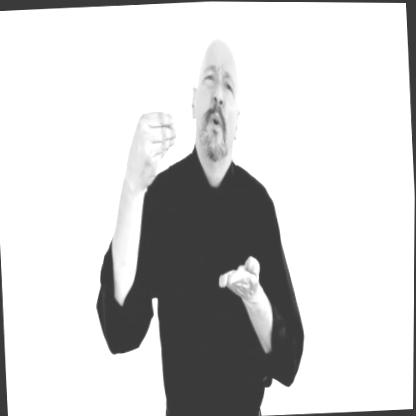Expensive: (130, 103, 259, 320)
